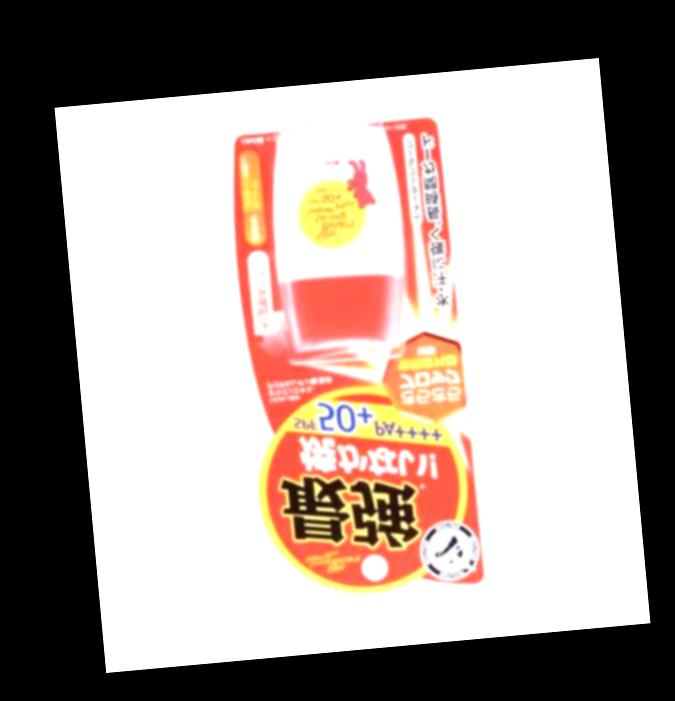cosmetic: (265, 113, 413, 353)
